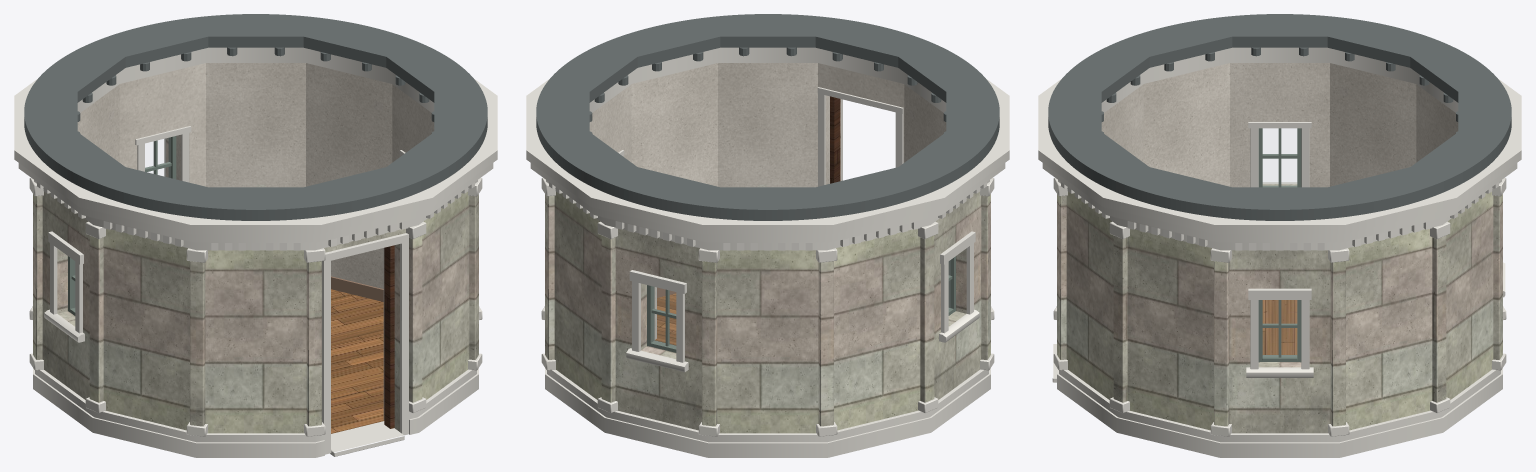
File: drum_wing.glb
3 renders of one model, left to right at view 1: azimuth 30°, elevation 25°; view 2: azimuth 150°, elevation 25°; view 3: azimuth 270°, elevation 25°, orthographic.
Parts seen in each view (by area): view 1: drum_wing_stone, drum_wing_trim, drum_wing_iron, drum_wing_plaster, drum_wing_oak, drum_wing_dkwood, drum_wing_frame, drum_wing_base, folha_glass; view 2: drum_wing_stone, drum_wing_trim, drum_wing_iron, drum_wing_plaster, drum_wing_frame, folha_glass, drum_wing_dkwood, drum_wing_oak; view 3: drum_wing_stone, drum_wing_trim, drum_wing_iron, drum_wing_plaster, drum_wing_glass, drum_wing_frame, drum_wing_oak.
Boxes of the visible parts, x1,y1,x2,y2 form: drum_wing_stone: [33, 138, 478, 433]; drum_wing_trim: [14, 47, 497, 457]; drum_wing_iron: [24, 14, 487, 220]; drum_wing_plaster: [77, 63, 434, 288]; drum_wing_oak: [331, 289, 384, 433]; drum_wing_dkwood: [384, 245, 394, 428]; drum_wing_frame: [68, 136, 176, 315]; drum_wing_base: [331, 276, 383, 301]; folha_glass: [145, 138, 170, 177]; drum_wing_stone: [545, 99, 990, 433]; drum_wing_trim: [526, 47, 1009, 457]; drum_wing_iron: [536, 14, 999, 220]; drum_wing_plaster: [589, 63, 946, 339]; drum_wing_frame: [647, 256, 955, 352]; folha_glass: [653, 287, 675, 346]; drum_wing_dkwood: [830, 96, 840, 183]; drum_wing_oak: [655, 293, 676, 345]; drum_wing_stone: [1057, 184, 1502, 433]; drum_wing_trim: [1038, 47, 1521, 457]; drum_wing_iron: [1048, 14, 1511, 220]; drum_wing_plaster: [1101, 63, 1458, 187]; drum_wing_glass: [1263, 129, 1296, 356]; drum_wing_frame: [1258, 128, 1301, 362]; drum_wing_oak: [1262, 300, 1297, 354].
Bounding box in the file's own units: 4.73 × 2.74 × 4.73.
9 materials, 4 textured.
